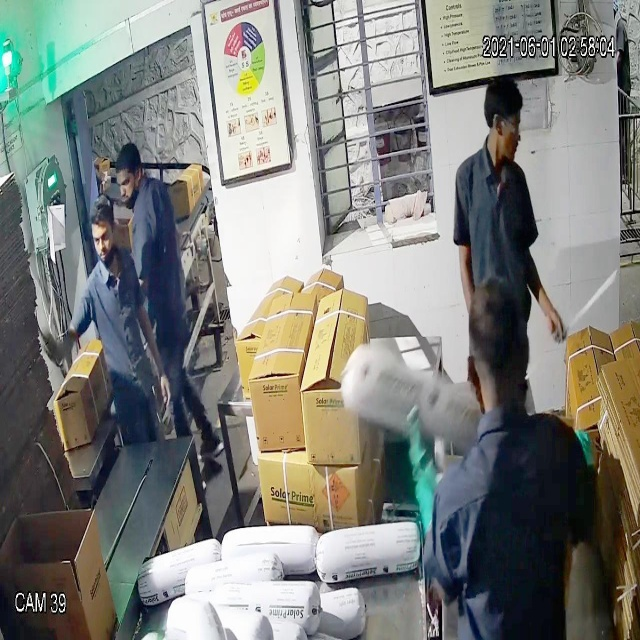Sin_gafas: (89, 222, 116, 252)
